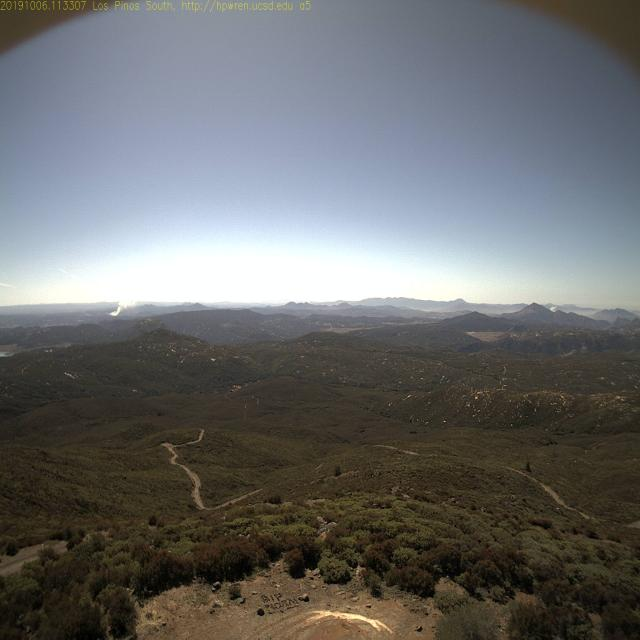smoke: (103, 296, 145, 320), (544, 302, 556, 310)
